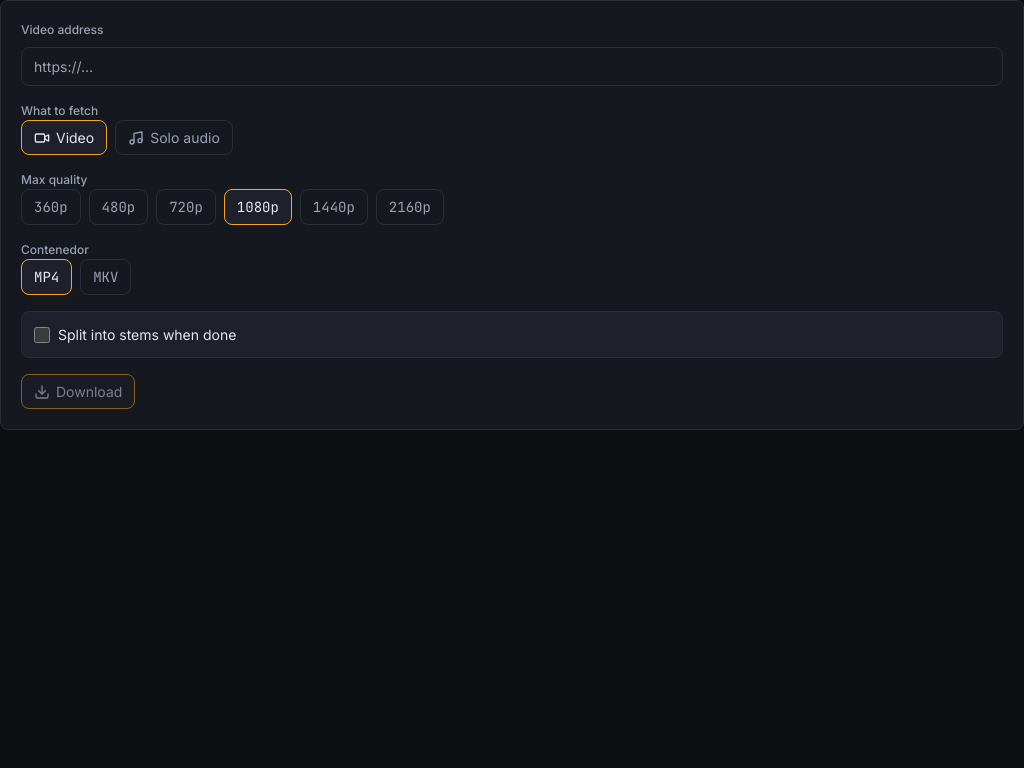
Test: DownloadPage › una separación fallida no vuelve fallida la descarga
Type "https://youtube.com/watch?v=x" into the field labelled "Video address".
click(512, 66); type("https://youtube.com/watch?v=x")  # box [21, 47, 1003, 86]
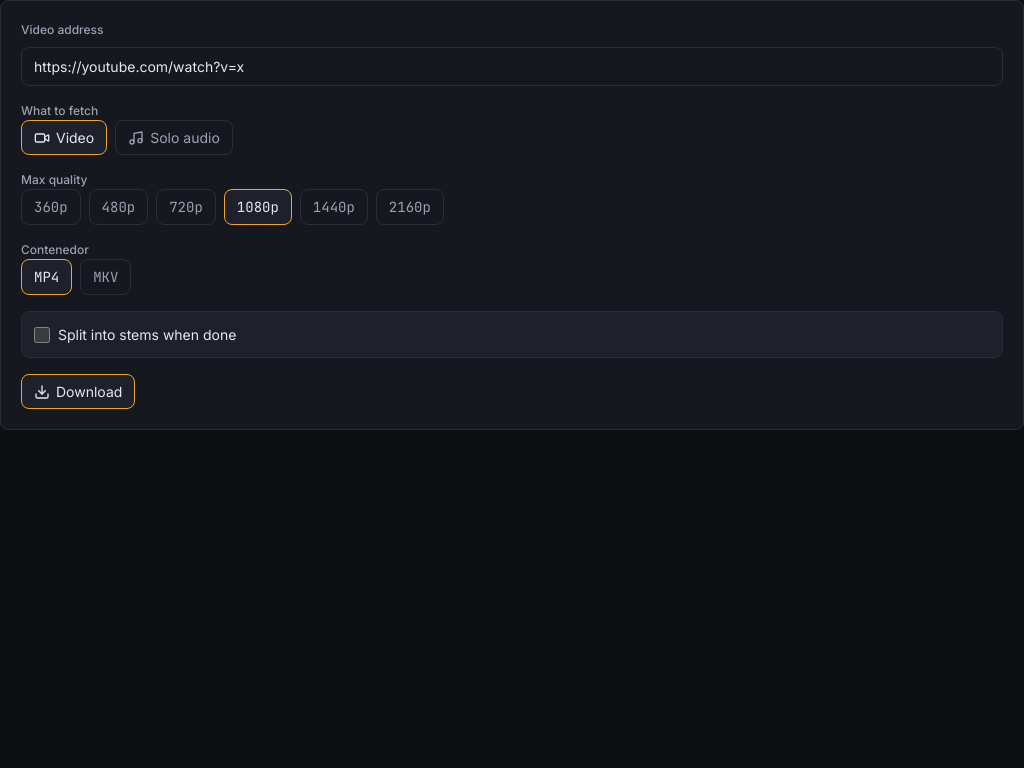
Click the button "Download".
click(78, 392)  # box [21, 374, 135, 409]
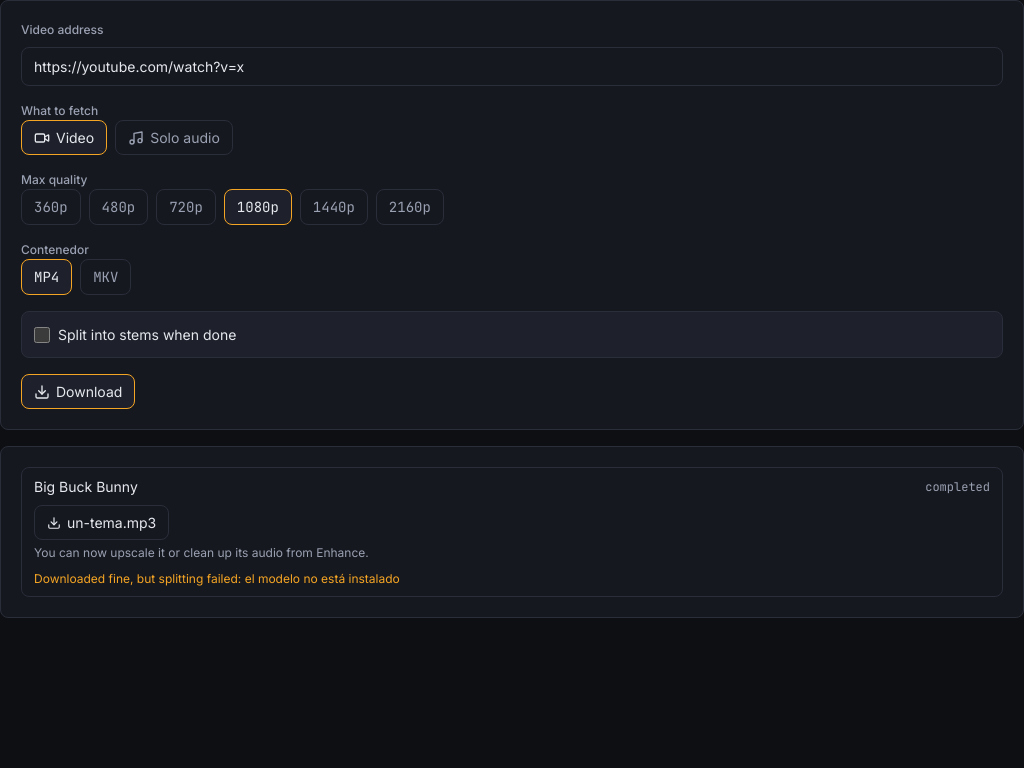
Check: the text "Downloaded fine, but splitting failed: el modelo no está instalado" is shown, box [34, 571, 400, 586]
Check: the text "completed" is shown, box [925, 478, 990, 496]
